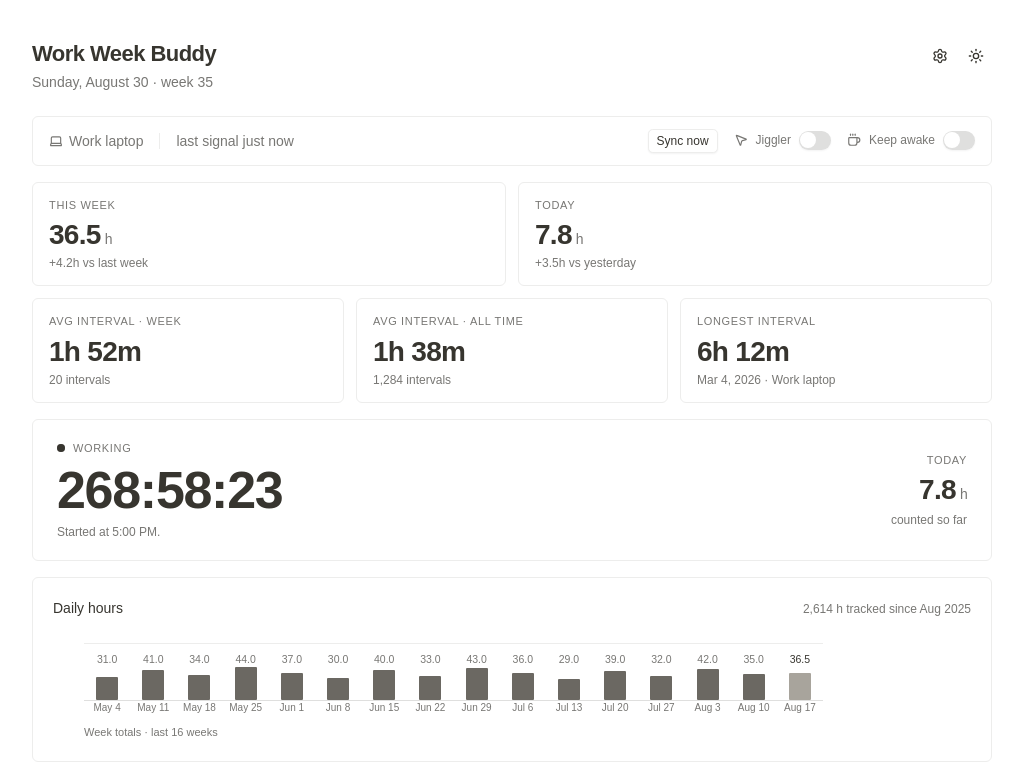
Test case: what it says when it worked › names the number of rows it actually sent
Click the button "Sync now": (683, 140) [648,128,718,152]
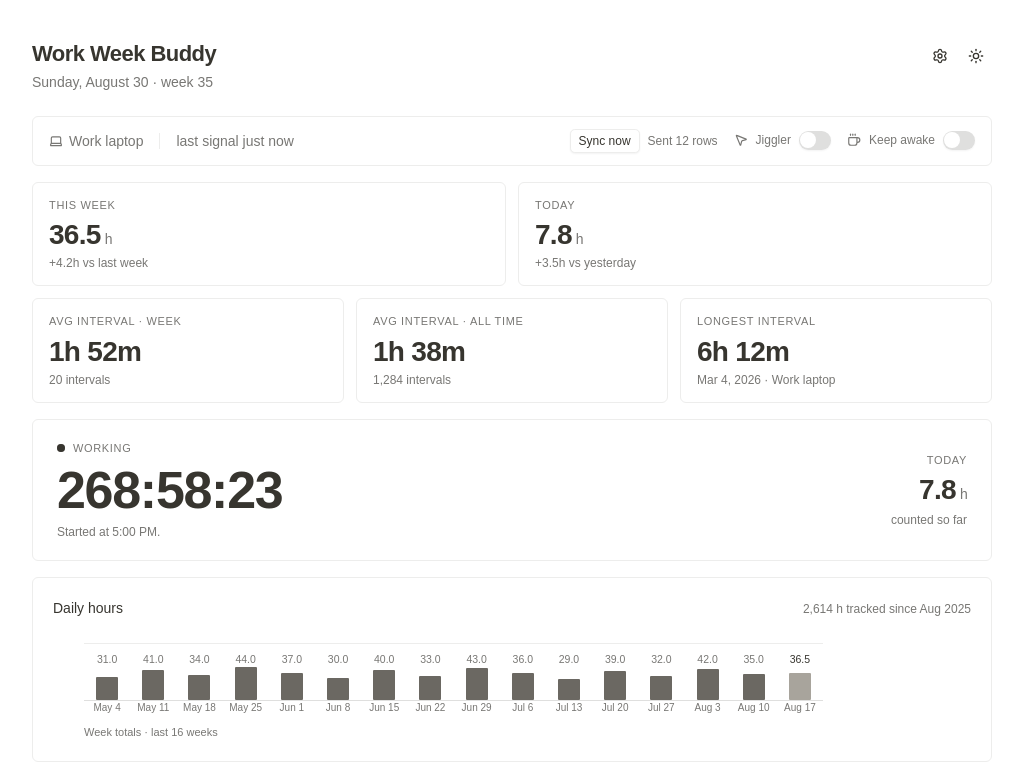
Expected: the message "Sent 12 rows" is shown, [648,132,718,148]
